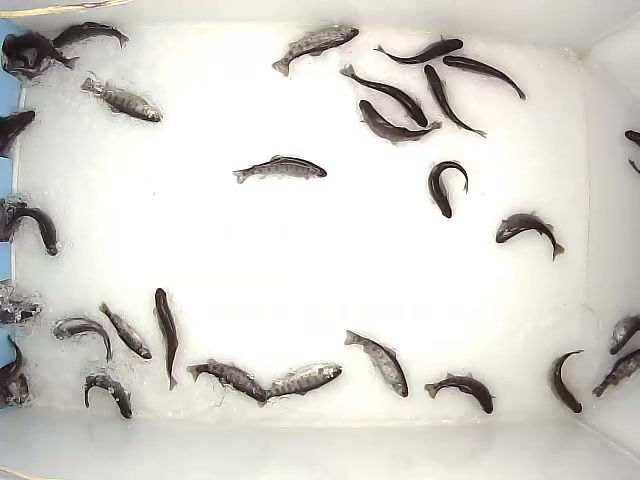fish: (338, 62, 429, 128), (270, 24, 360, 78), (424, 64, 488, 139), (343, 329, 410, 399), (357, 99, 444, 147), (256, 361, 343, 408), (442, 55, 528, 102), (79, 76, 164, 123), (495, 209, 565, 263), (185, 358, 267, 403), (424, 370, 497, 415), (97, 301, 152, 360), (232, 154, 329, 186), (372, 34, 465, 65), (152, 287, 179, 393), (54, 317, 114, 364), (4, 206, 59, 257), (546, 349, 587, 415), (591, 348, 640, 399), (427, 160, 469, 219), (51, 21, 130, 52), (83, 373, 133, 420)
